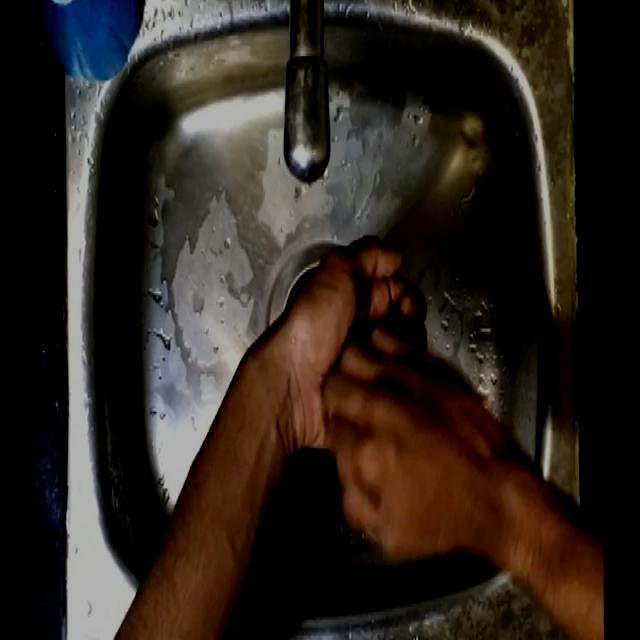step_4: (275, 232, 489, 555)
